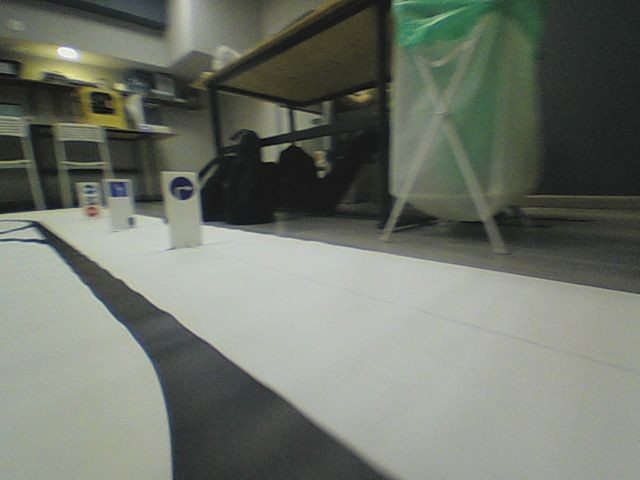Right: (170, 176, 194, 201)
